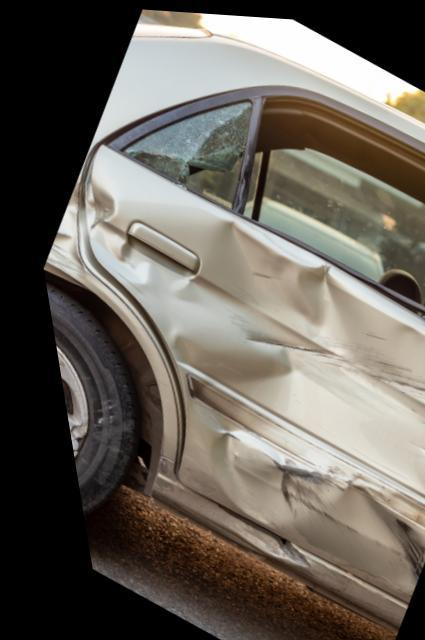dent: (79, 181, 425, 593), (207, 512, 288, 561), (37, 184, 77, 278)
glass shatter: (115, 98, 248, 205)
